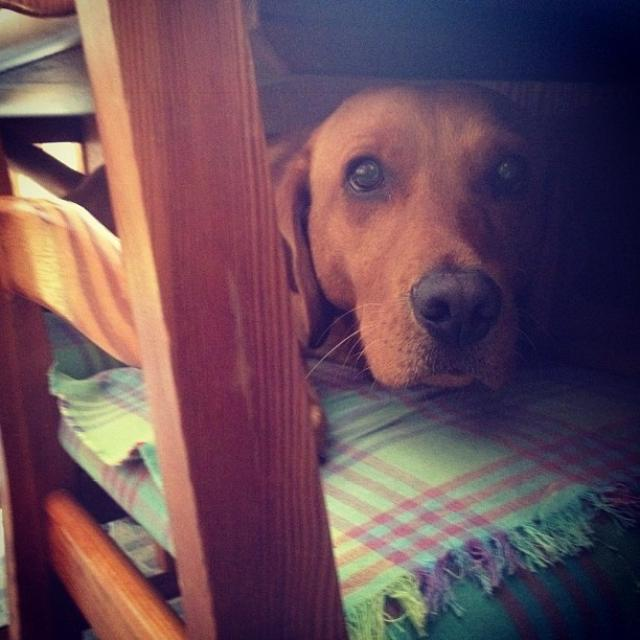dog: (55, 76, 572, 466)
